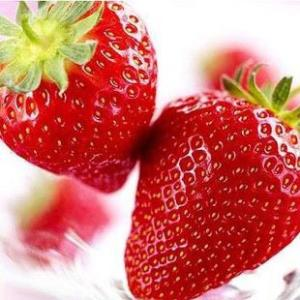strawberry: (125, 62, 300, 300), (1, 2, 149, 183)
